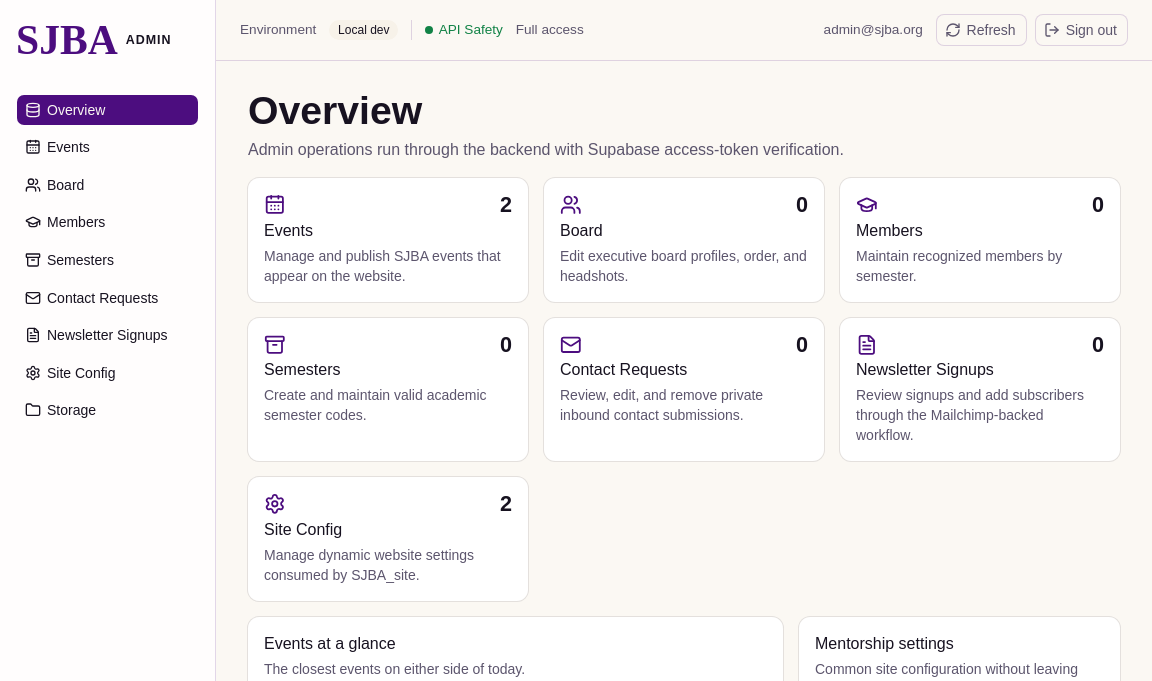
Test case: App › shows live overview counts and event snapshots, then opens a resource card
This screenshot has width=1152, height=681.
Click the button "2 Events" at (388, 240), box [248,178,528,302]
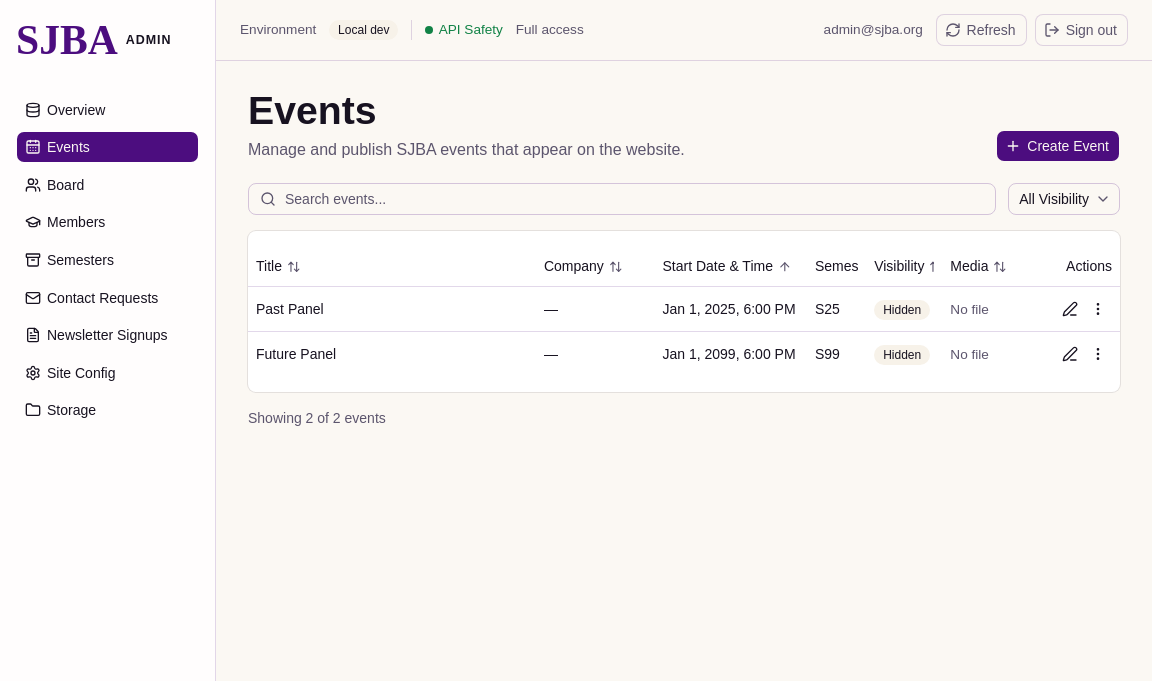
Now the heading "Events" is shown, box [248,89,376,132]
